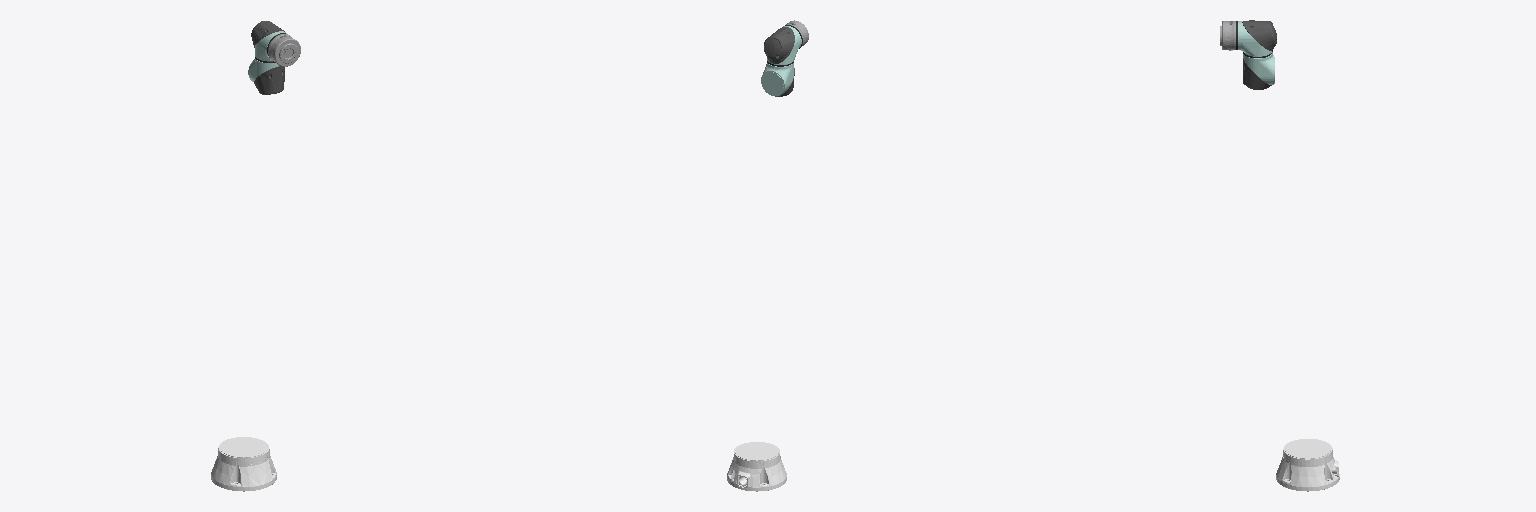
The robot description file, URDF, robot "rb10_1300e_u":
<?xml version="1.0" ?>
<!-- =================================================================================== -->
<!-- |    This document was autogenerated by xacro from rb10_1300e_u.urdf.xacro        | -->
<!-- |    EDITING THIS FILE BY HAND IS NOT RECOMMENDED                                 | -->
<!-- =================================================================================== -->
<robot name="rb10_1300e_u">
  <link name="link0">
    <visual>
      <geometry>
        <mesh filename="package://rbpodo_description/meshes/rb10_1300e_u/visual/link0.dae"/>
      </geometry>
    </visual>
    <collision>
      <geometry>
        <mesh filename="package://rbpodo_description/meshes/rb10_1300e_u/collision/link0.stl"/>
      </geometry>
    </collision>
  </link>
  <link name="link1">
    <visual>
      <geometry>
        <mesh filename="package://rbpodo_description/meshes/rb10_1300e_u/visual/link1.dae"/>
      </geometry>
    </visual>
    <collision>
      <geometry>
        <mesh filename="package://rbpodo_description/meshes/rb10_1300e_u/collision/link1.stl"/>
      </geometry>
    </collision>
    <inertial>
      <origin rpy="0 0 0" xyz="0.000021 -0.007855 -0.042537"/>
      <mass value="8.366"/>
      <inertia ixx="0.027403652" ixy="-5.926e-06" ixz="-1.0119e-05" iyy="0.027770573" iyz="0.003030512" izz="0.026140211"/>
    </inertial>
  </link>
  <link name="link2">
    <visual>
      <geometry>
        <mesh filename="package://rbpodo_description/meshes/rb10_1300e_u/visual/link2.dae"/>
      </geometry>
    </visual>
    <collision>
      <geometry>
        <mesh filename="package://rbpodo_description/meshes/rb10_1300e_u/collision/link2.stl"/>
      </geometry>
    </collision>
    <inertial>
      <origin rpy="0 0 0" xyz="-0.000013 -0.155462 0.225241"/>
      <mass value="15.61"/>
      <inertia ixx="1.140650644" ixy="-1.3042e-05" ixz="-6.7084e-05" iyy="1.134398623" iyz="0.024507884" izz="0.050849068"/>
    </inertial>
  </link>
  <link name="link3">
    <visual>
      <geometry>
        <mesh filename="package://rbpodo_description/meshes/rb10_1300e_u/visual/link3.dae"/>
      </geometry>
    </visual>
    <collision>
      <geometry>
        <mesh filename="package://rbpodo_description/meshes/rb10_1300e_u/collision/link3.stl"/>
      </geometry>
    </collision>
    <inertial>
      <origin rpy="0 0 0" xyz="-0.000048 -0.013885 0.325013"/>
      <mass value="5.69"/>
      <inertia ixx="0.312033029" ixy="9.298e-06" ixz="1.169e-05" iyy="0.311287646" iyz="0.005331552" izz="0.011397824"/>
    </inertial>
  </link>
  <link name="link4">
    <visual>
      <geometry>
        <mesh filename="package://rbpodo_description/meshes/rb10_1300e_u/visual/link4.dae"/>
      </geometry>
    </visual>
    <collision>
      <geometry>
        <mesh filename="package://rbpodo_description/meshes/rb10_1300e_u/collision/link4.stl"/>
      </geometry>
    </collision>
    <inertial>
      <origin rpy="0 0 0" xyz="0.000093 -0.113949 0.026461"/>
      <mass value="2.062"/>
      <inertia ixx="0.0027111" ixy="-8.022e-06" ixz="1.1208e-05" iyy="0.002715407" iyz="0.000144243" izz="0.002157043"/>
    </inertial>
  </link>
  <link name="link5">
    <visual>
      <geometry>
        <mesh filename="package://rbpodo_description/meshes/rb10_1300e_u/visual/link5.dae"/>
      </geometry>
    </visual>
    <collision>
      <geometry>
        <mesh filename="package://rbpodo_description/meshes/rb10_1300e_u/collision/link5.stl"/>
      </geometry>
    </collision>
    <inertial>
      <origin rpy="0 0 0" xyz="-0.000093 -0.026434 -0.003233"/>
      <mass value="2.061"/>
      <inertia ixx="0.002706437" ixy="1.1205e-05" ixz="-8.016e-06" iyy="0.002153592" iyz="0.000141528" izz="0.002712272"/>
    </inertial>
  </link>
  <link name="link6">
    <visual>
      <geometry>
        <mesh filename="package://rbpodo_description/meshes/rb10_1300e_u/visual/link6.dae"/>
      </geometry>
    </visual>
    <collision>
      <geometry>
        <mesh filename="package://rbpodo_description/meshes/rb10_1300e_u/collision/link6.stl"/>
      </geometry>
    </collision>
    <inertial>
      <origin rpy="0 0 0" xyz="-0.000210 -0.092540 -0.000292"/>
      <mass value="0.406"/>
      <inertia ixx="0.000345314" ixy="5.73e-07" ixz="6.61e-07" iyy="0.000532873" iyz="-5.4e-08" izz="0.000340021"/>
    </inertial>
  </link>
  <link name="tcp"/>
  <joint name="base" type="revolute">
    <origin rpy="0 0 0" xyz="0 0 0"/>
    <parent link="link0"/>
    <child link="link1"/>
    <axis xyz="0 0 1"/>
    <limit effort="10" lower="-3.14" upper="3.14" velocity="3.14"/>
  </joint>
  <joint name="shoulder" type="revolute">
    <origin rpy="0 0 0" xyz="0 0 0.197"/>
    <parent link="link1"/>
    <child link="link2"/>
    <axis xyz="0 1 0"/>
    <limit effort="10" lower="-3.14" upper="3.14" velocity="3.14"/>
  </joint>
  <joint name="elbow" type="revolute">
    <origin rpy="0 0 0" xyz="0 -0.1875 0.6127"/>
    <parent link="link2"/>
    <child link="link3"/>
    <axis xyz="0 1 0"/>
    <limit effort="10" lower="-3.14" upper="3.14" velocity="3.14"/>
  </joint>
  <joint name="wrist1" type="revolute">
    <origin rpy="0 0 0" xyz="0 0.1514 0.57015"/>
    <parent link="link3"/>
    <child link="link4"/>
    <axis xyz="0 1 0"/>
    <limit effort="10" lower="-3.14" upper="3.14" velocity="3.14"/>
  </joint>
  <joint name="wrist2" type="revolute">
    <origin rpy="0 0 0" xyz="0 -0.11715 0"/>
    <parent link="link4"/>
    <child link="link5"/>
    <axis xyz="0 0 1"/>
    <limit effort="10" lower="-3.14" upper="3.14" velocity="3.14"/>
  </joint>
  <joint name="wrist3" type="revolute">
    <origin rpy="0 0 0" xyz="0 0 0.11715"/>
    <parent link="link5"/>
    <child link="link6"/>
    <axis xyz="0 1 0"/>
    <limit effort="10" lower="-3.14" upper="3.14" velocity="3.14"/>
  </joint>
  <joint name="tcp_joint" type="fixed">
    <origin rpy="0 0 0" xyz="0 -0.1153 0"/>
    <parent link="link6"/>
    <child link="tcp"/>
  </joint>
  <ros2_control name="RBPodoHardwareInterface" type="system">
    <hardware>
      <plugin>mock_components/GenericSystem</plugin>
      <param name="mock_sensor_commands">False</param>
      <param name="state_following_offset">0.0</param>
    </hardware>
    <joint name="base">
      <param name="initial_position">0.0</param>
      <param name="torque_constant">1</param>
      <command_interface name="effort"/>
      <command_interface name="velocity"/>
      <command_interface name="position"/>
      <state_interface name="position"/>
      <state_interface name="effort"/>
    </joint>
    <joint name="shoulder">
      <param name="initial_position">0.0</param>
      <param name="torque_constant">1</param>
      <command_interface name="effort"/>
      <command_interface name="velocity"/>
      <command_interface name="position"/>
      <state_interface name="position"/>
      <state_interface name="effort"/>
    </joint>
    <joint name="elbow">
      <param name="initial_position">0.0</param>
      <param name="torque_constant">1</param>
      <command_interface name="effort"/>
      <command_interface name="velocity"/>
      <command_interface name="position"/>
      <state_interface name="position"/>
      <state_interface name="effort"/>
    </joint>
    <joint name="wrist1">
      <param name="initial_position">0.0</param>
      <param name="torque_constant">1</param>
      <command_interface name="effort"/>
      <command_interface name="velocity"/>
      <command_interface name="position"/>
      <state_interface name="position"/>
      <state_interface name="effort"/>
    </joint>
    <joint name="wrist2">
      <param name="initial_position">0.0</param>
      <param name="torque_constant">1</param>
      <command_interface name="effort"/>
      <command_interface name="velocity"/>
      <command_interface name="position"/>
      <state_interface name="position"/>
      <state_interface name="effort"/>
    </joint>
    <joint name="wrist3">
      <param name="initial_position">0.0</param>
      <param name="torque_constant">1</param>
      <command_interface name="effort"/>
      <command_interface name="velocity"/>
      <command_interface name="position"/>
      <state_interface name="position"/>
      <state_interface name="effort"/>
    </joint>
  </ros2_control>
</robot>

--- What the picture shows (computed from the rendered views, not written in the file) ---
The picture shows the robot from 3 angles, left to right: view 1: azimuth 30°, elevation 25°; view 2: azimuth 150°, elevation 25°; view 3: azimuth 270°, elevation 25°; orthographic projection.
Robot: rb10_1300e_u — 8 links, 7 joints (6 revolute, 1 fixed); root link link0; default pose: every joint at zero.
Links seen in each view (by area): view 1: link0, link4, link6, link5; view 2: link0, link5, link4; view 3: link0, link5, link4.
Boxes of the visible links, box(x1,y1,x2,y2) form: link0: box(211, 437, 276, 491); link4: box(248, 57, 284, 94); link6: box(268, 34, 300, 66); link5: box(251, 21, 286, 60); link0: box(727, 442, 786, 491); link5: box(764, 25, 802, 64); link4: box(761, 61, 794, 96); link0: box(1276, 439, 1339, 491); link5: box(1236, 20, 1276, 56); link4: box(1243, 51, 1274, 89).
Bounding box of the posed robot: 0.196 × 0.3676 × 1.54 m (x, y, z).
Meshes: 7 distinct files referenced, 4 mesh visuals loaded (4 Collada DAE); not drawn: 3 (reference not matched to a file when rendering).
